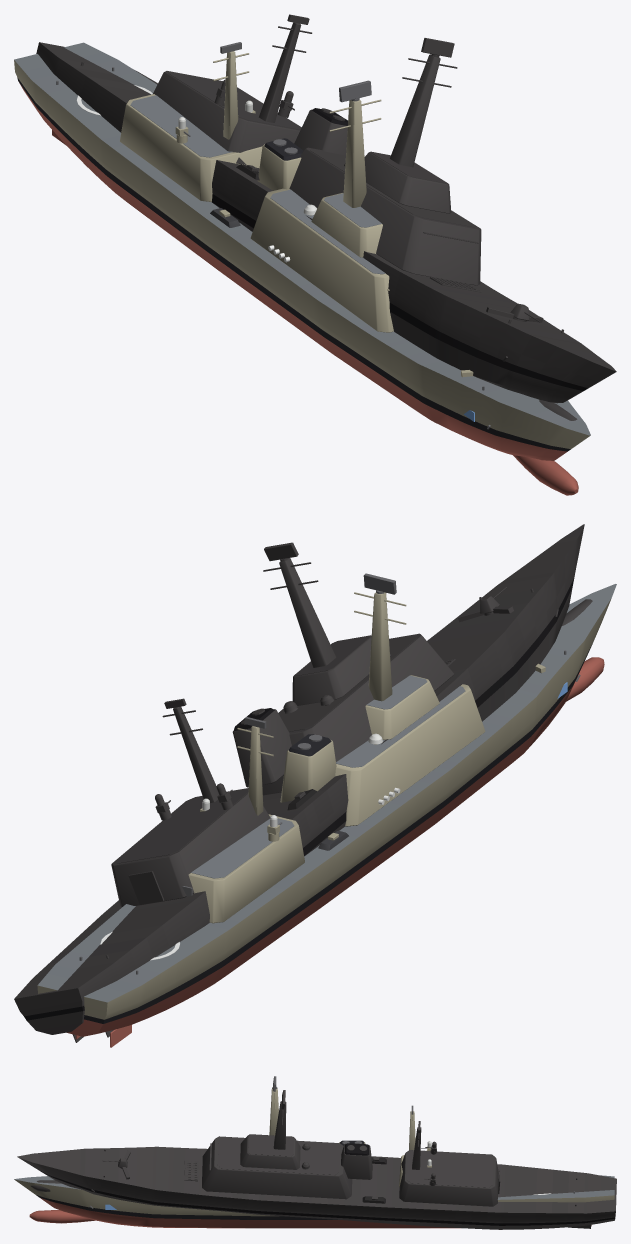
Rendered from asFrigate__tughril_class.glb.
3 views of the same model, one above another, from view 1: azimuth 30°, elevation 25°; view 2: azimuth 150°, elevation 25°; view 3: azimuth 270°, elevation 25° (orthographic). The views are drawn at different scales.
Visible parts, largest first — view 1: Hull_Mesh, Wreck; view 2: Hull_Mesh, Wreck; view 3: Wreck, Hull_Mesh.
Boxes of the visible parts, box(x1,y1,x2,y2) form: Hull_Mesh: box(14, 42, 590, 495); Wreck: box(36, 14, 616, 420); Hull_Mesh: box(37, 584, 616, 1047); Wreck: box(14, 524, 592, 1042); Wreck: box(17, 1090, 616, 1229); Hull_Mesh: box(14, 1088, 614, 1228).
Size of what is drawn, in the model's own units: 24.24 by 39.93 by 140.
